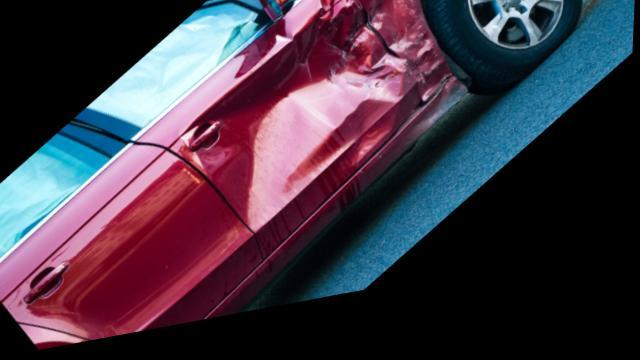dent: (184, 7, 410, 241), (349, 0, 449, 117), (419, 94, 471, 139)
